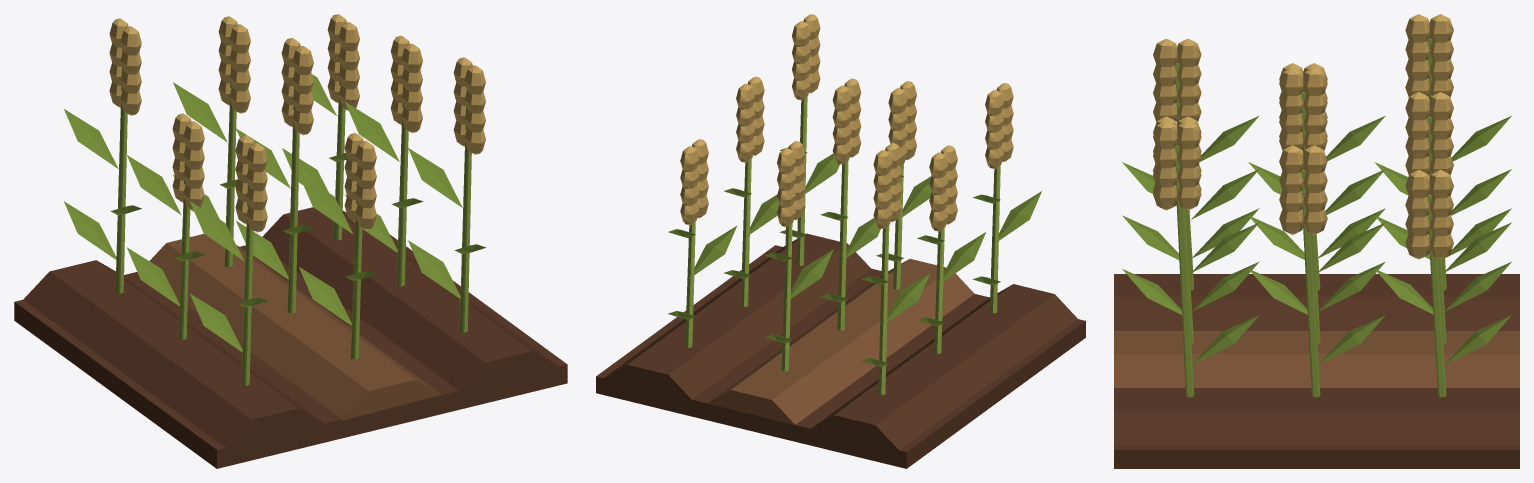
File: 48_wheat_patch.fbx
3 views of the same model, side by side, from view 1: azimuth 30°, elevation 25°; view 2: azimuth 150°, elevation 25°; view 3: azimuth 270°, elevation 25° (orthographic). The views are drawn at different scales.
Parts seen in each view (by area): view 1: 48_wheat_patch; view 2: 48_wheat_patch; view 3: 48_wheat_patch.
Boxes of the visible parts, box(x1,y1,x2,y2) form: 48_wheat_patch: box(14, 14, 567, 468); 48_wheat_patch: box(596, 14, 1085, 468); 48_wheat_patch: box(1114, 14, 1519, 468).
Size of the model in its own units: 1.35 by 1.16 by 1.35.
1 material, 1 textured.
